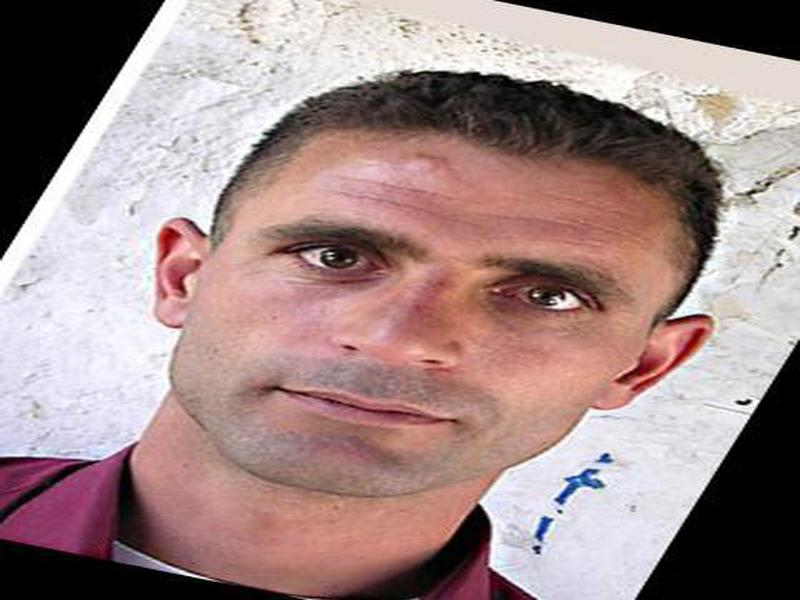without_mask: (200, 178, 644, 504)
